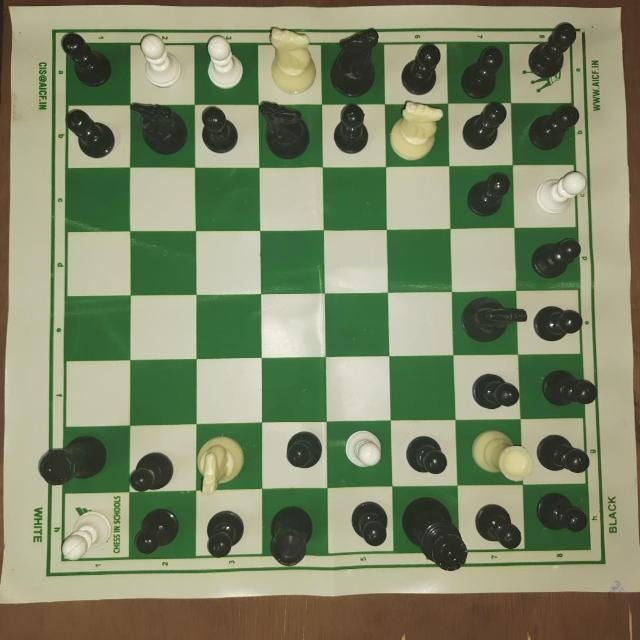black-knight: (327, 24, 383, 99), (457, 295, 527, 351), (130, 98, 192, 160), (258, 98, 314, 160)
black-pawn: (59, 27, 113, 88), (528, 16, 582, 77), (527, 100, 582, 151), (462, 40, 506, 102), (531, 490, 593, 534), (127, 506, 182, 555), (65, 108, 117, 159), (346, 498, 394, 553), (473, 501, 523, 553), (538, 366, 599, 407), (529, 233, 581, 281), (461, 104, 511, 152), (465, 169, 512, 220), (534, 431, 591, 473), (203, 506, 249, 558), (397, 42, 441, 96), (125, 449, 177, 494), (198, 103, 242, 155), (327, 104, 371, 156), (531, 303, 585, 345), (401, 429, 448, 476), (468, 371, 520, 413), (280, 427, 324, 473)
black-queen: (397, 490, 471, 575)
black-rook: (32, 433, 107, 490), (266, 503, 316, 575)
white-knight: (262, 23, 320, 97), (384, 99, 446, 167), (192, 431, 249, 496)
white-pawn: (57, 508, 115, 562), (134, 28, 184, 88), (531, 167, 591, 217), (201, 30, 244, 90), (339, 425, 387, 472)
white-rook: (468, 425, 534, 486)
